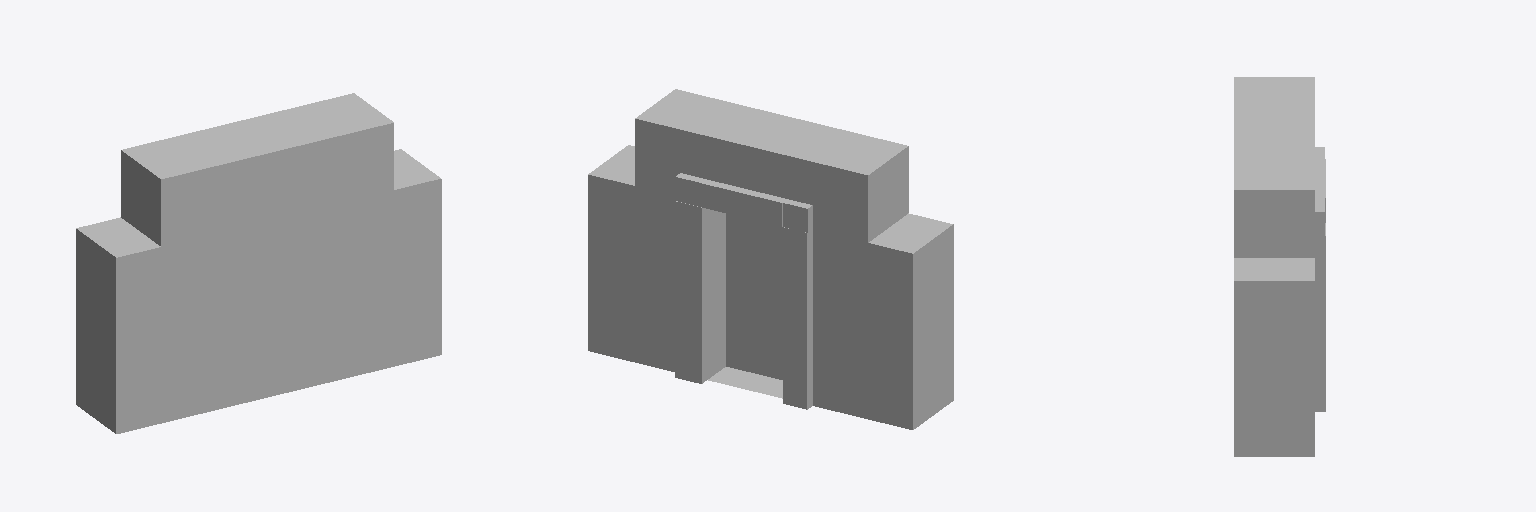
File: entrance.obj
3 views of the same model, side by side, from view 1: azimuth 30°, elevation 25°; view 2: azimuth 150°, elevation 25°; view 3: azimuth 270°, elevation 25° (orthographic).
Parts seen in each view (by area): view 1: Cube; view 2: Cube; view 3: Cube.
Boxes of the visible parts, x1=… form: Cube: x1=76, y1=93, x2=441, y2=433; Cube: x1=588, y1=89, x2=953, y2=429; Cube: x1=1234, y1=77, x2=1325, y2=456.
Size of the model in its own units: 2.79 by 2 by 0.6821.